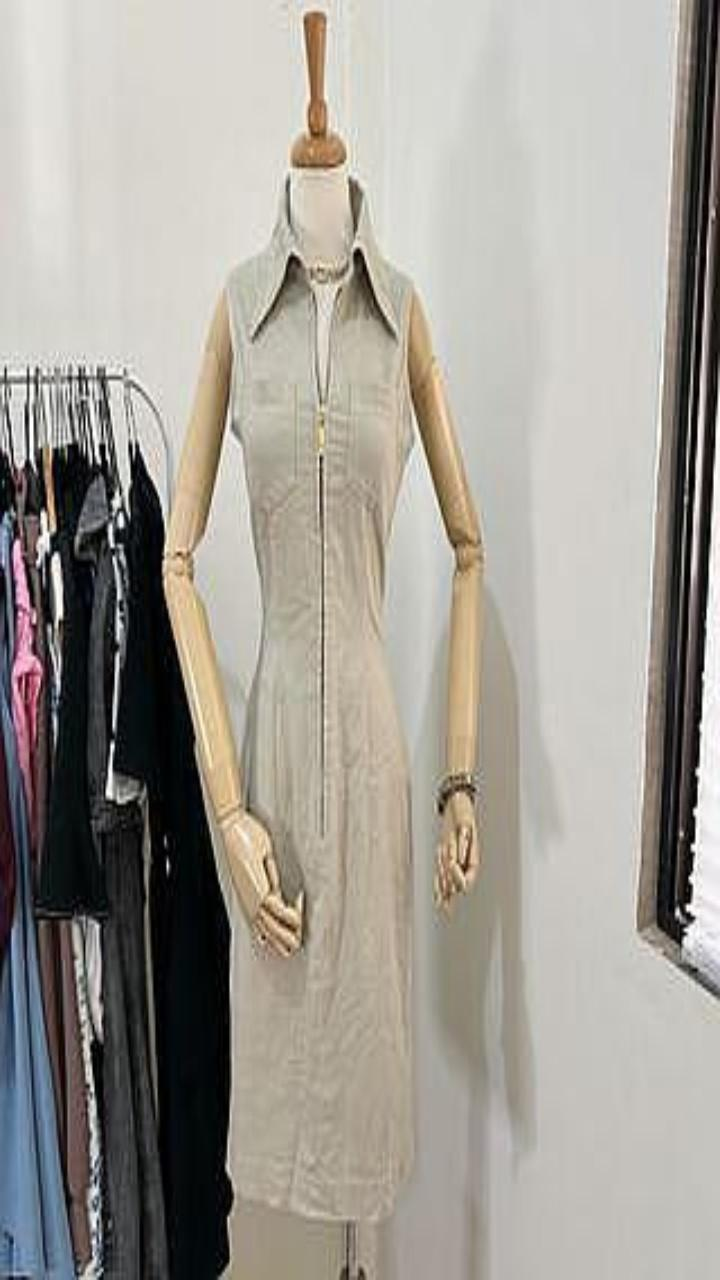Dresses: (227, 177, 413, 1219)
